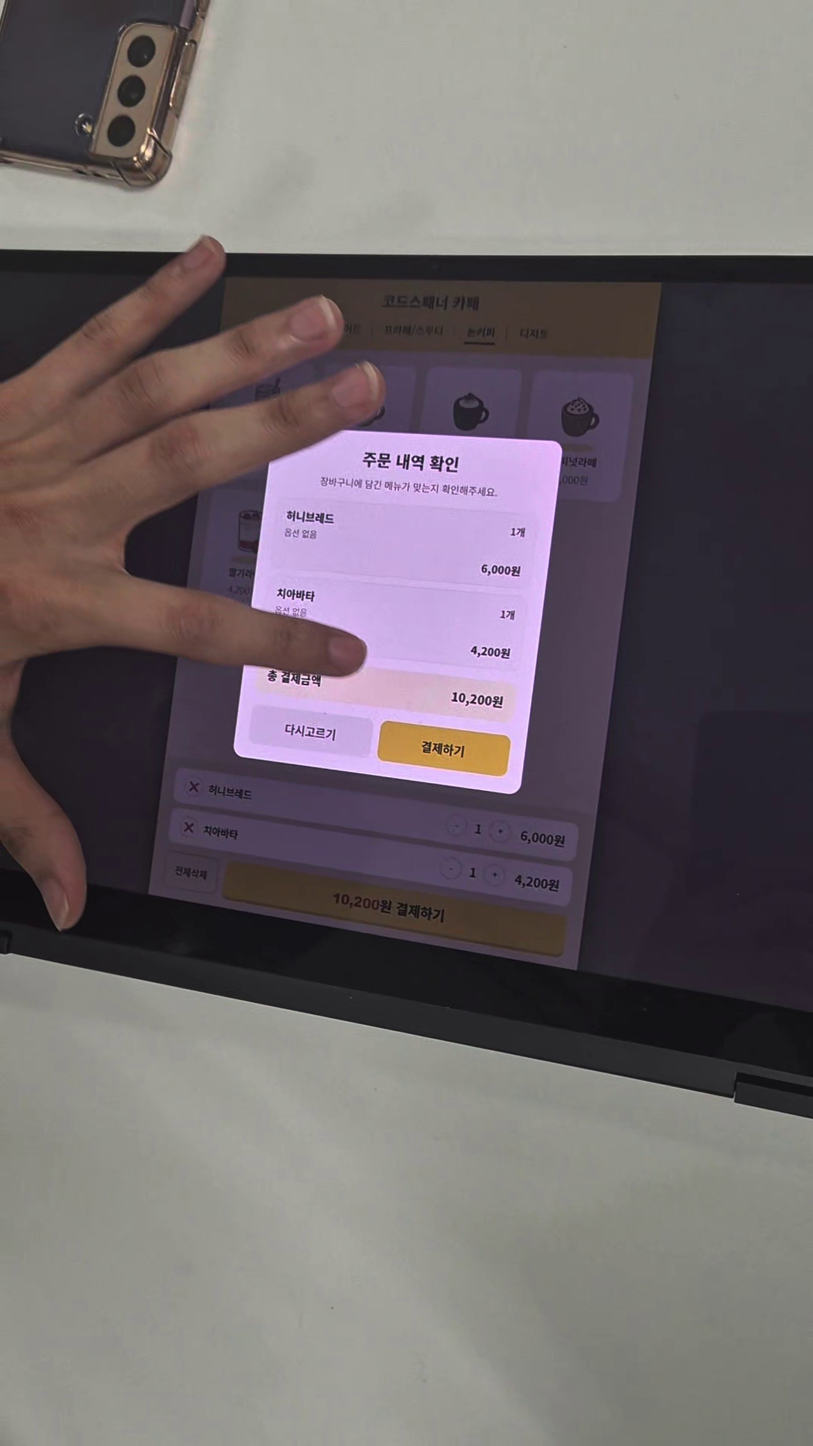action_button: (222, 858, 566, 957), (376, 720, 511, 777), (250, 704, 374, 759), (165, 852, 218, 894)
cart_item: (168, 807, 573, 908), (173, 767, 579, 861)
category_tab: (381, 324, 446, 338), (466, 326, 496, 338), (520, 327, 550, 339)
popup_modal: (232, 425, 563, 796)
